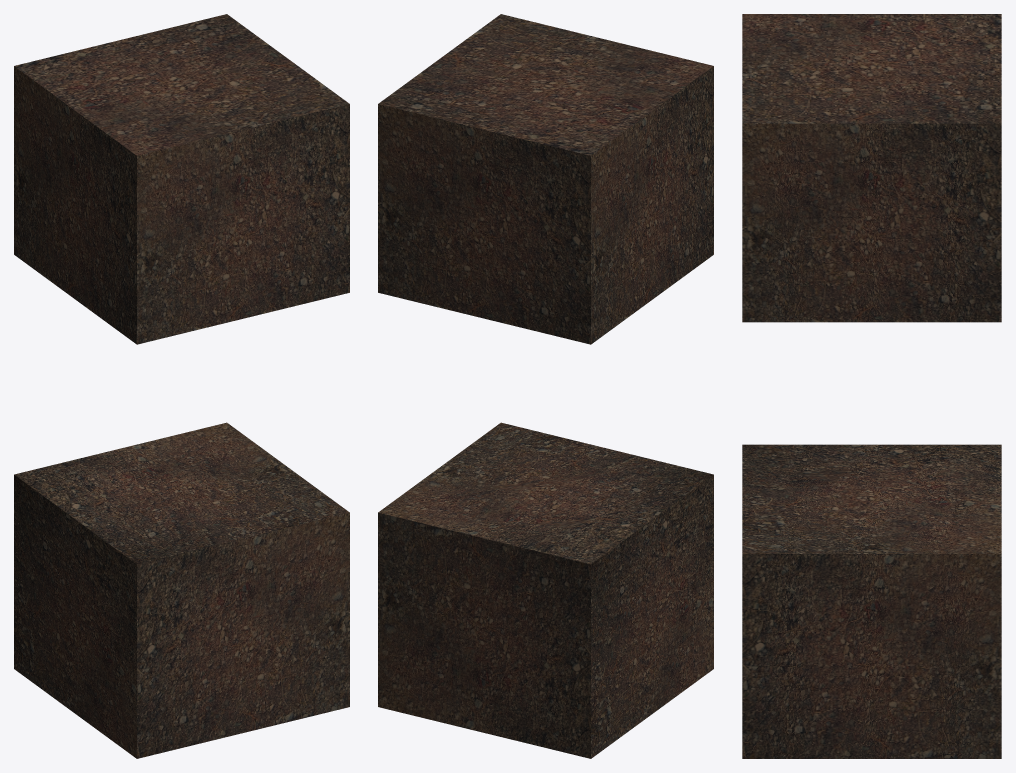
The model's file is EarthEntrance.glb.
The picture shows the model from 3 angles, left to right: view 1: azimuth 30°, elevation 25°; view 2: azimuth 150°, elevation 25°; view 3: azimuth 270°, elevation 25°; orthographic projection. The views are drawn at different scales.
Parts seen in each view (by area): view 1: Cube; view 2: Cube; view 3: Cube.
Part boxes in pixels (left/top/right/bottom): Cube: left=14, top=14, right=349, bottom=758; Cube: left=378, top=14, right=713, bottom=758; Cube: left=742, top=14, right=1001, bottom=758.
Bounding box in the file's own units: 2 × 5.41 × 2.
Materials: 1 (1 with a texture image).
